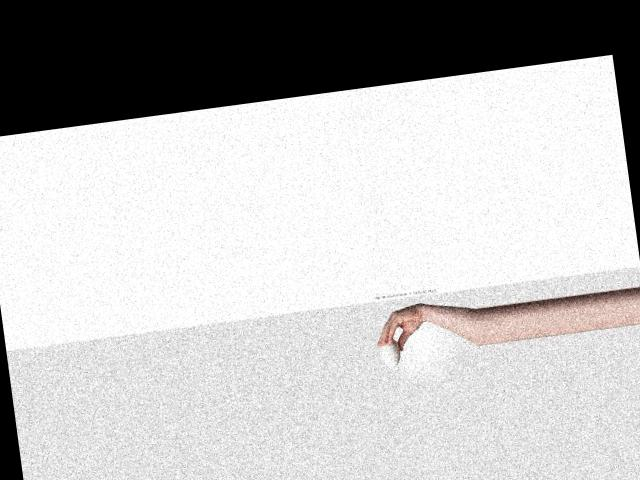egg: (379, 337, 402, 369)
